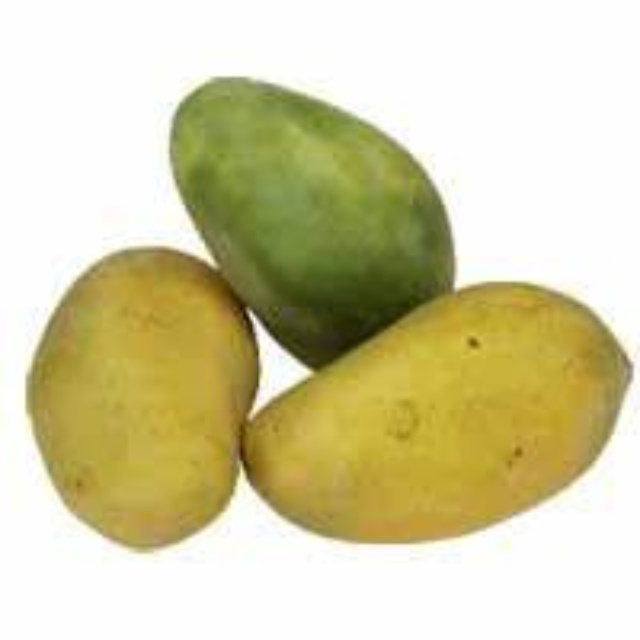mango: (247, 286, 639, 546), (172, 73, 456, 359), (31, 238, 265, 567)
